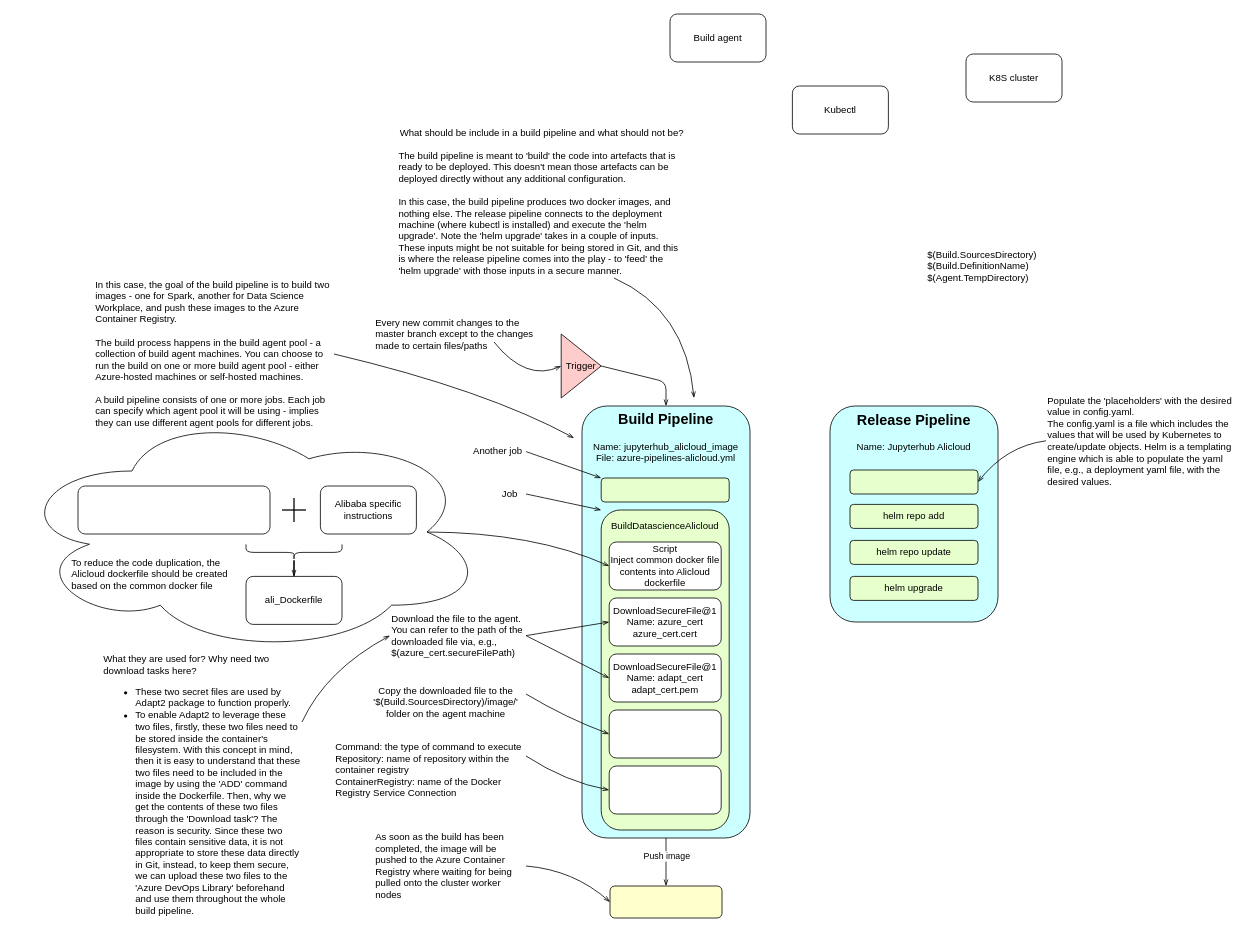
Image size: 1252x940. Some labels were removed from this diagram. Each missing label, with the centre of its shape:
<COMMON_DOCKERFILE_CONTENT> Dockerfile: (173,509)
Azure Container Registry: (665,901)
BuildSparkAlicloud: (664,489)
Configure config.yaml: (913,481)
Docker@2 Build and push the image to the container register: (664,789)
Script Copy cert and pem file into the 'image' folder: (664,733)
